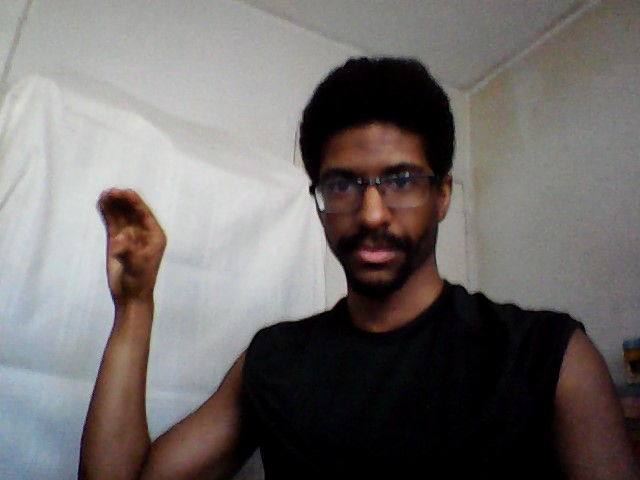c: (91, 182, 171, 306)
